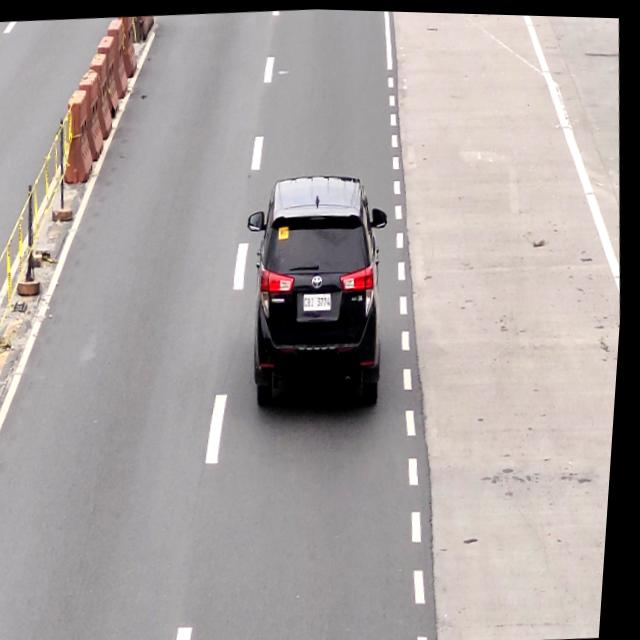Car: (241, 168, 402, 421)
License-Plate: (302, 286, 338, 313)
